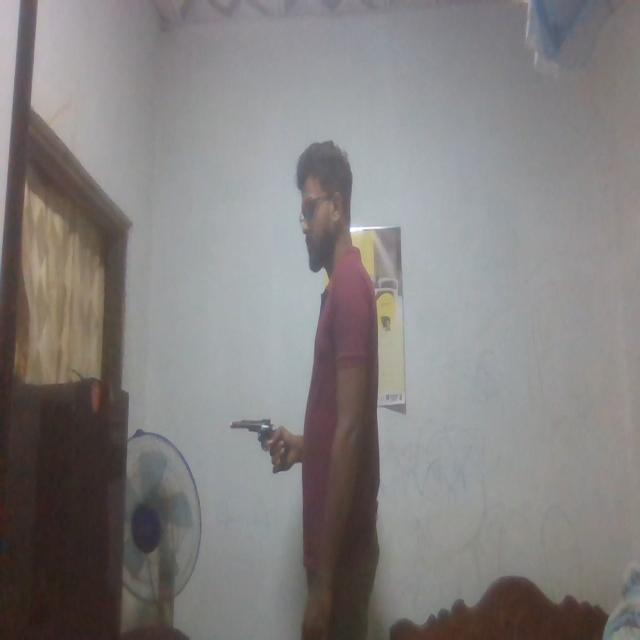Gun_Holder: (233, 411, 283, 478)
Person: (265, 135, 386, 640)
